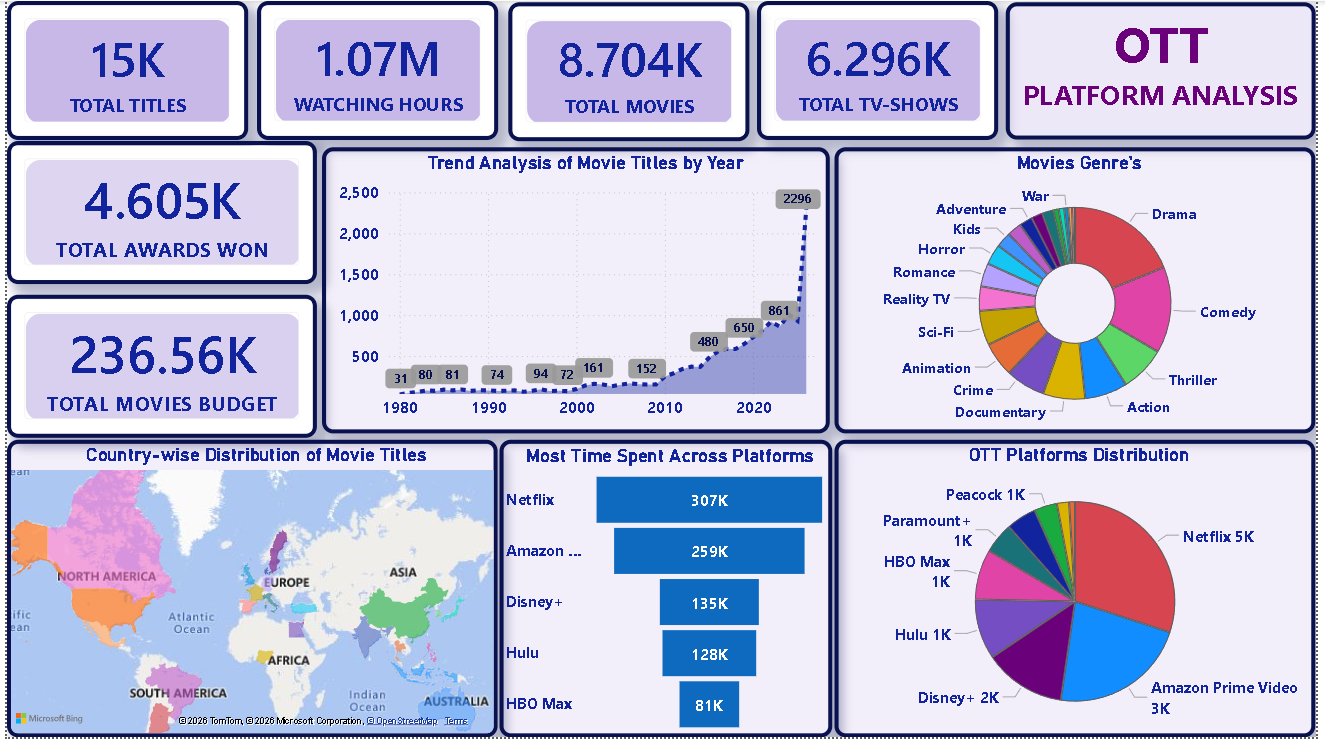

What the dashboard file says about the page in this screenshot:
{"tool":"powerbi","page":{"name":"OTT PLATFORM ANALYSIS","canvas":[1280,720],"ordinal":0},"visuals":[{"type":"cardVisual","fields":{"Data":["Sum(platform_summary.tv_shows)"]},"box":[734.1,0,236,135.8],"z":2},{"type":"textbox","box":[977.1,2.9,302.9,134.3],"z":3},{"type":"cardVisual","fields":{"Data":["Sum(platform_summary.total_titles)"]},"box":[0,0,235.8,136.1],"z":4},{"type":"cardVisual","fields":{"Data":["Sum(platform_summary.total_hours_watched_million)"]},"box":[244.3,0,236,135.8],"z":5},{"type":"cardVisual","fields":{"Data":["Sum(platform_summary.movies)"]},"box":[489.9,1.4,236,135.8],"z":6},{"type":"pieChart","title":"OTT Platforms Distribution","fields":{"Y":["Sum(platform_summary.total_titles)"],"Category":["platform_summary.platform"]},"box":[809.6,429.5,470.7,290.9],"z":7},{"type":"donutChart","title":"Movies Genre''s","fields":{"Category":["genre_summary.primary_genre"],"Y":["Sum(genre_summary.total_titles)"]},"box":[809.3,142.7,470.7,279.9],"z":8},{"type":"filledMap","title":"Country-wise Distribution of Movie Titles","fields":{"Series":["country_summary.total_titles"],"Category":["country_summary.country"]},"box":[0,429.5,480.3,290.9],"z":9},{"type":"lineChart","title":"Trend Analysis of Movie Titles by Year","fields":{"Category":["streaming_catalog.date_added.Variation.Date Hierarchy.Year"],"Y":["CountNonNull(streaming_catalog.title)"]},"box":[308.7,142.7,496.7,279.9],"z":10},{"type":"cardVisual","fields":{"Data":["Sum(genre_summary.total_awards)"]},"box":[0,137.2,303.3,140],"z":11},{"type":"cardVisual","fields":{"Data":["Sum(streaming_catalog.budget_million_usd)"]},"box":[0,286.8,303.3,140],"z":12},{"type":"funnel","title":"Most Time Spent Across Platforms","fields":{"Category":["platform_summary.platform"],"Y":["Sum(platform_summary.total_hours_watched_million)"]},"box":[481.6,429.1,325.2,290.9],"z":13}]}

Visuals, with their boxes in screenshot pixels (x1, y1, x2, y2), scaled from the page's 1280x720 canvas onto the 1325x739 screenshot:
cardVisual - Sum(platform_summary.tv_shows): locate(760, 0, 1004, 139)
textbox: locate(1011, 3, 1324, 141)
cardVisual - Sum(platform_summary.total_titles): locate(0, 0, 244, 140)
cardVisual - Sum(platform_summary.total_hours_watched_million): locate(253, 0, 497, 139)
cardVisual - Sum(platform_summary.movies): locate(507, 1, 751, 141)
"OTT Platforms Distribution" pieChart: locate(838, 441, 1324, 738)
"Movies Genre''s" donutChart: locate(838, 146, 1324, 434)
"Country-wise Distribution of Movie Titles" filledMap: locate(0, 441, 497, 738)
"Trend Analysis of Movie Titles by Year" lineChart: locate(320, 146, 834, 434)
cardVisual - Sum(genre_summary.total_awards): locate(0, 141, 314, 285)
cardVisual - Sum(streaming_catalog.budget_million_usd): locate(0, 294, 314, 438)
"Most Time Spent Across Platforms" funnel: locate(499, 440, 835, 738)
